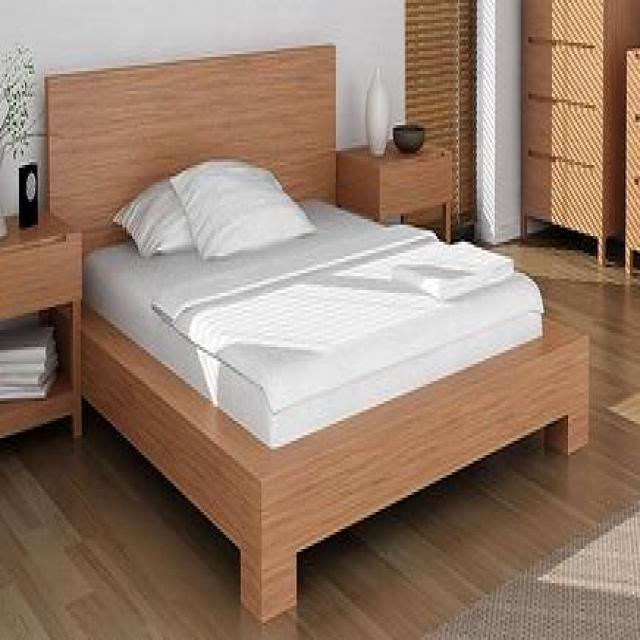bed: (46, 41, 590, 622)
